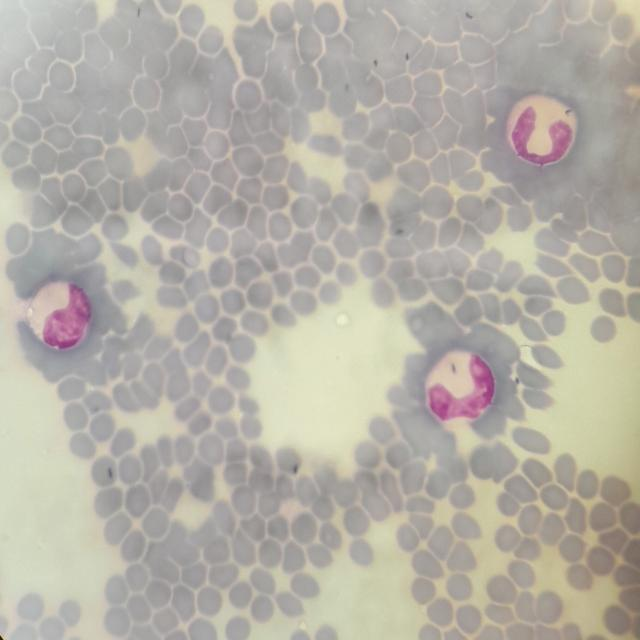Neutrofilo: (420, 350, 497, 430), (507, 95, 581, 171)
